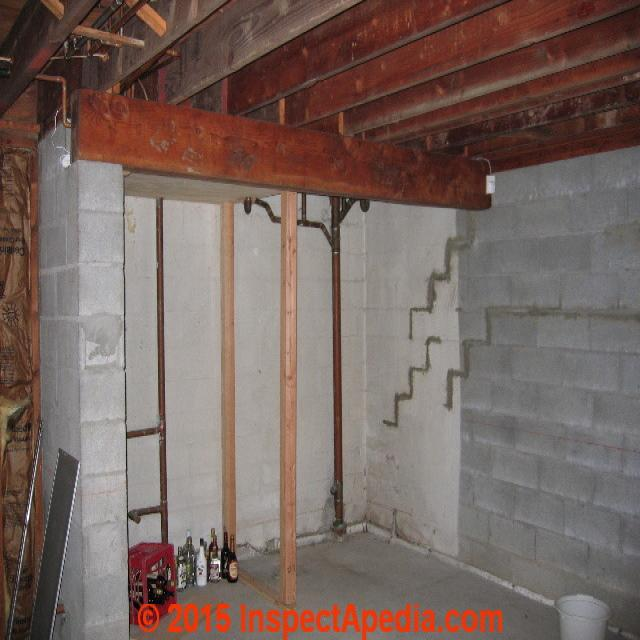Crack: (407, 208, 474, 336), (444, 302, 491, 410), (496, 299, 639, 325)
